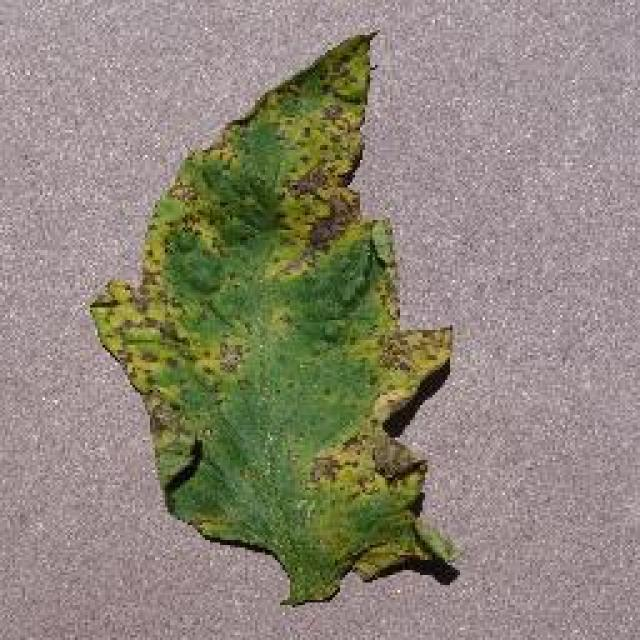Tomato___Septoria_leaf_spot: (90, 35, 452, 602)
